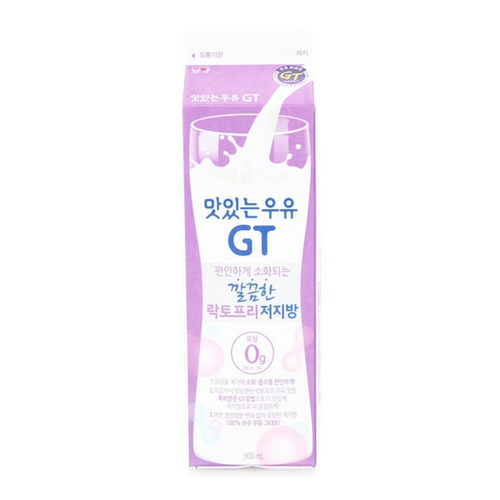milk: (183, 45, 321, 471)
